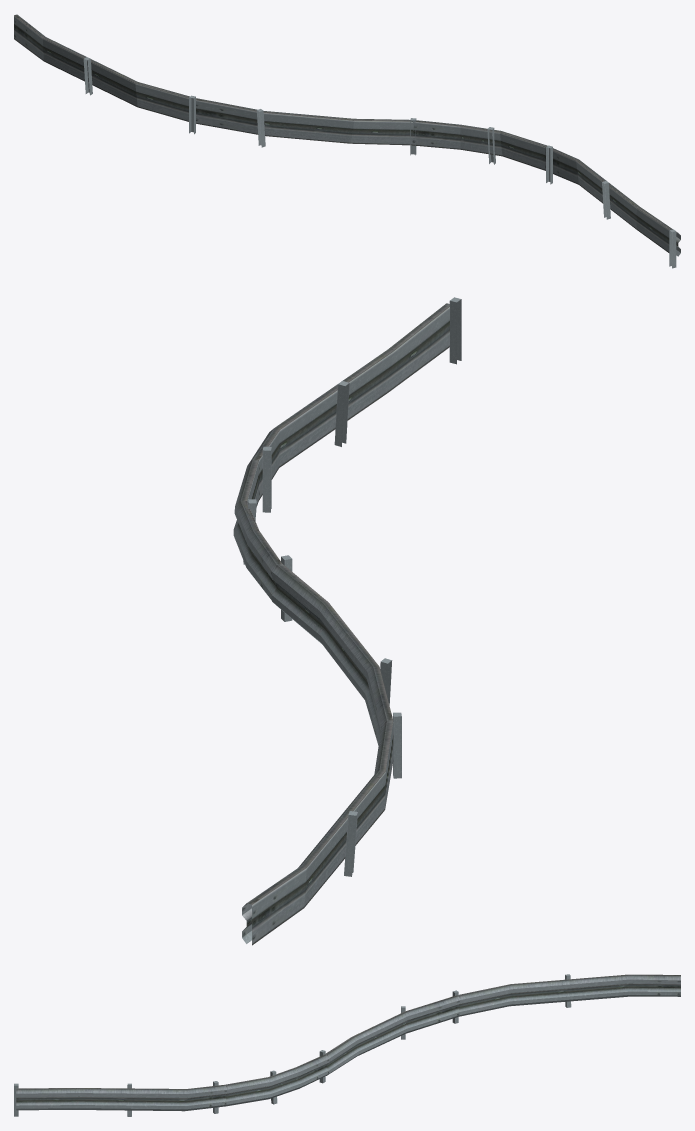
Rendered from road_fance_curve_left_1.fbx.
3 views of the same model, one above another, from view 1: azimuth 30°, elevation 25°; view 2: azimuth 150°, elevation 25°; view 3: azimuth 270°, elevation 25° (orthographic). The views are drawn at different scales.
Visible parts, largest first — view 1: road_fance_curve_left_1; view 2: road_fance_curve_left_1; view 3: road_fance_curve_left_1.
Boxes of the visible parts, left/top/right/bottom form: road_fance_curve_left_1: left=14, top=14, right=680, bottom=268; road_fance_curve_left_1: left=233, top=297, right=461, bottom=945; road_fance_curve_left_1: left=14, top=974, right=680, bottom=1116.
Size of the model in its own units: 9.04 by 1.12 by 21.68.
